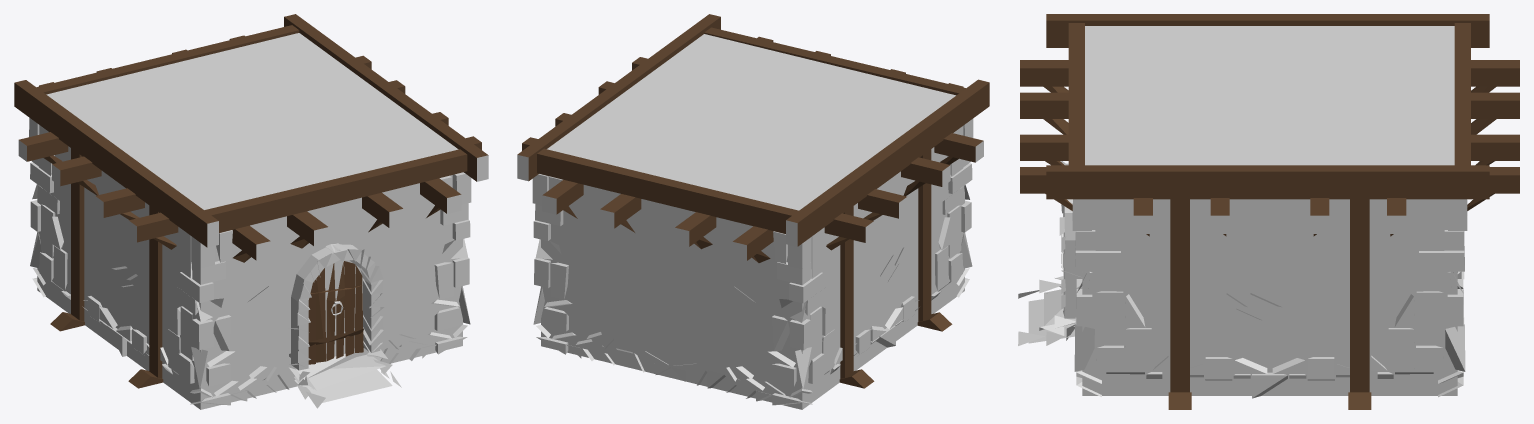
File: mv_house4.glb
3 renders of one model, left to right at view 1: azimuth 30°, elevation 25°; view 2: azimuth 150°, elevation 25°; view 3: azimuth 270°, elevation 25°, orthographic. The views are drawn at different scales.
Parts seen in each view (by area): view 1: S_House_4; view 2: S_House_4; view 3: S_House_4.
Boxes of the visible parts, left/top/right/bottom form: S_House_4: left=14, top=14, right=488, bottom=409; S_House_4: left=517, top=14, right=989, bottom=409; S_House_4: left=1018, top=14, right=1519, bottom=409.
Bounding box in the file's own units: 1.94 × 1.07 × 2.12.
